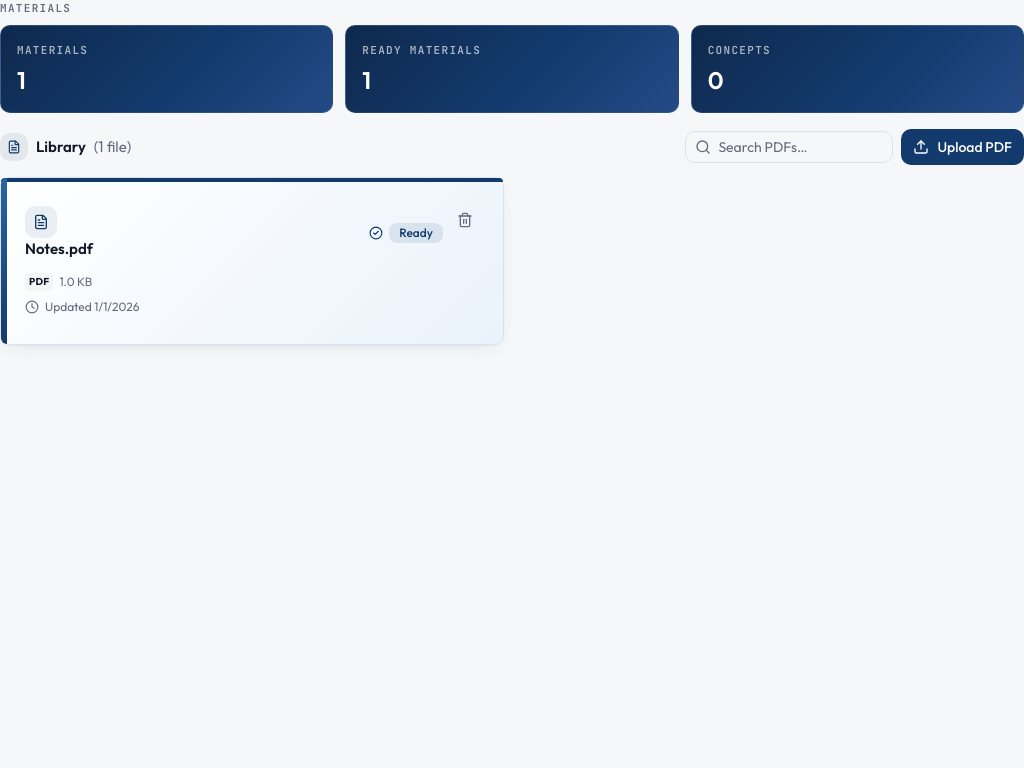
materials store › deletes a material after confirmation
Check: the link with aria-label "Open material Notes.pdf" is shown, box [25, 206, 443, 260]
Click the button named "Delete material Notes.pdf" at (465, 220), box [451, 206, 479, 234]
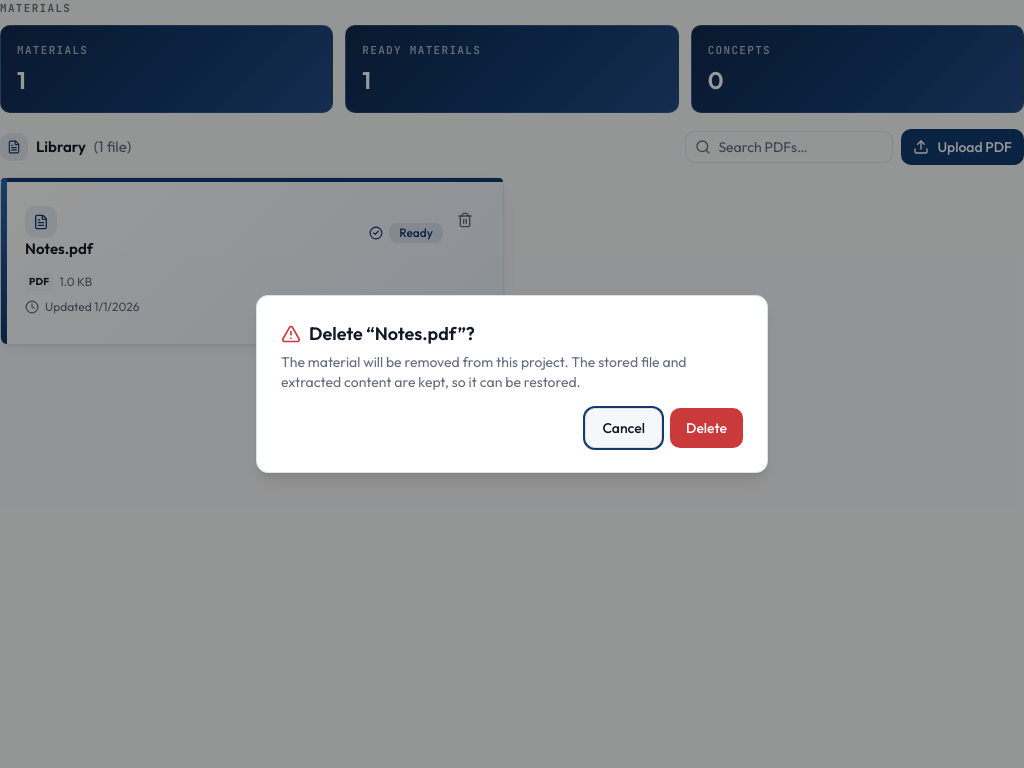
Check: the heading "Delete “Notes.pdf”?" is shown, box [281, 322, 475, 345]
Click the button "Delete" at (706, 428), box [670, 408, 743, 448]
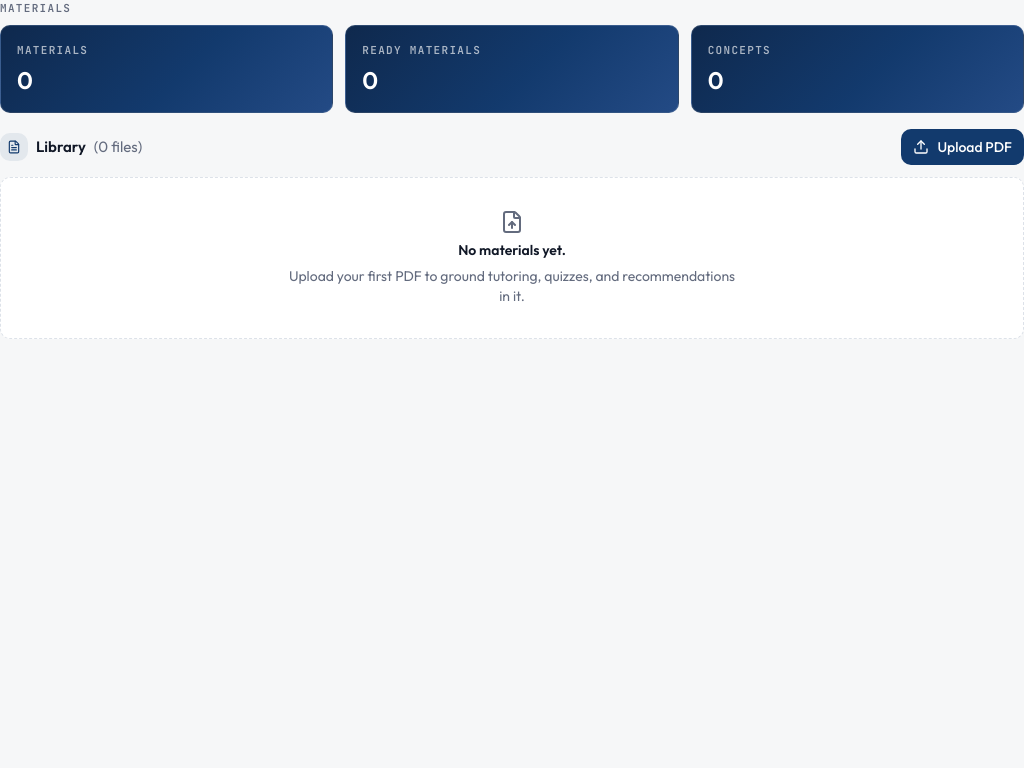
Check: the text "No materials yet." is shown, box [458, 240, 566, 260]
